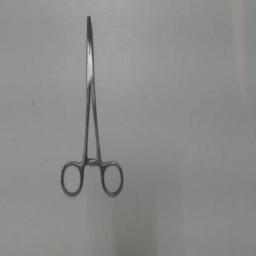Crile Artery Forceps: (57, 12, 127, 200)
